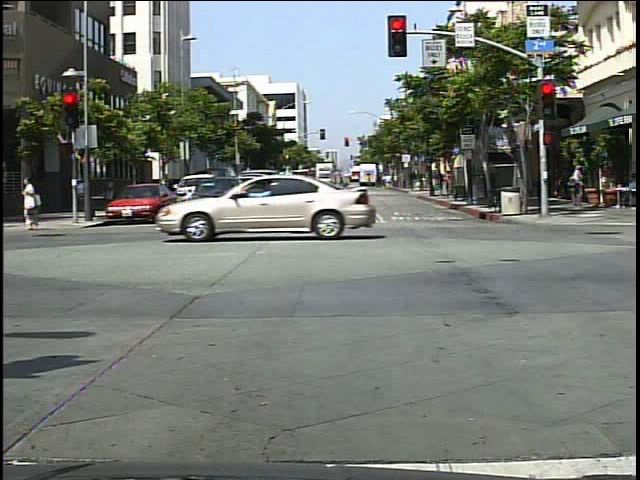person: (18, 172, 49, 236), (566, 161, 588, 212)
